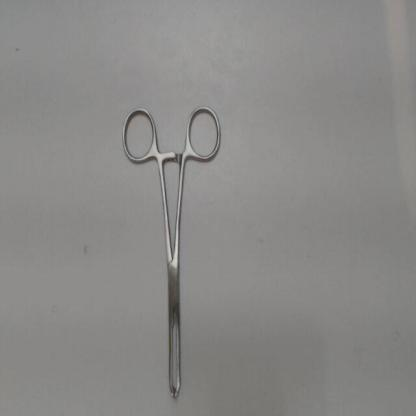Allis Tissue Forceps: (115, 102, 230, 411)
